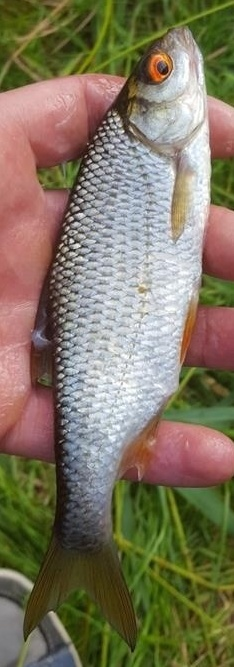Rutilus rutilus: (20, 20, 214, 647)
